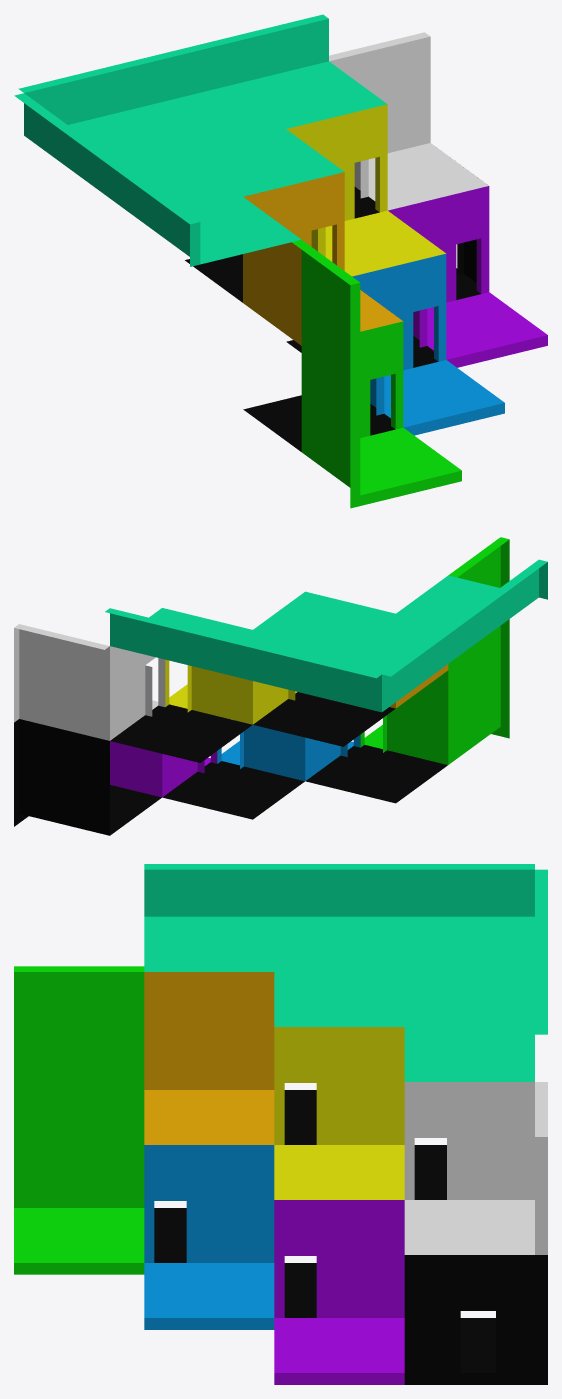
Rendered from house_6.fbx.
3 renders of one model, top to bottom at view 1: azimuth 30°, elevation 25°; view 2: azimuth 150°, elevation 25°; view 3: azimuth 270°, elevation 25°, orthographic. The views are drawn at different scales.
Parts seen in each view (by area): view 1: house_6; view 2: house_6; view 3: house_6.
Boxes of the visible parts, bbox=[...] form: house_6: bbox=[14, 14, 547, 508]; house_6: bbox=[14, 537, 547, 835]; house_6: bbox=[14, 864, 547, 1384].
Size of the model in its own units: 4.1 by 2.5 by 4.1.
